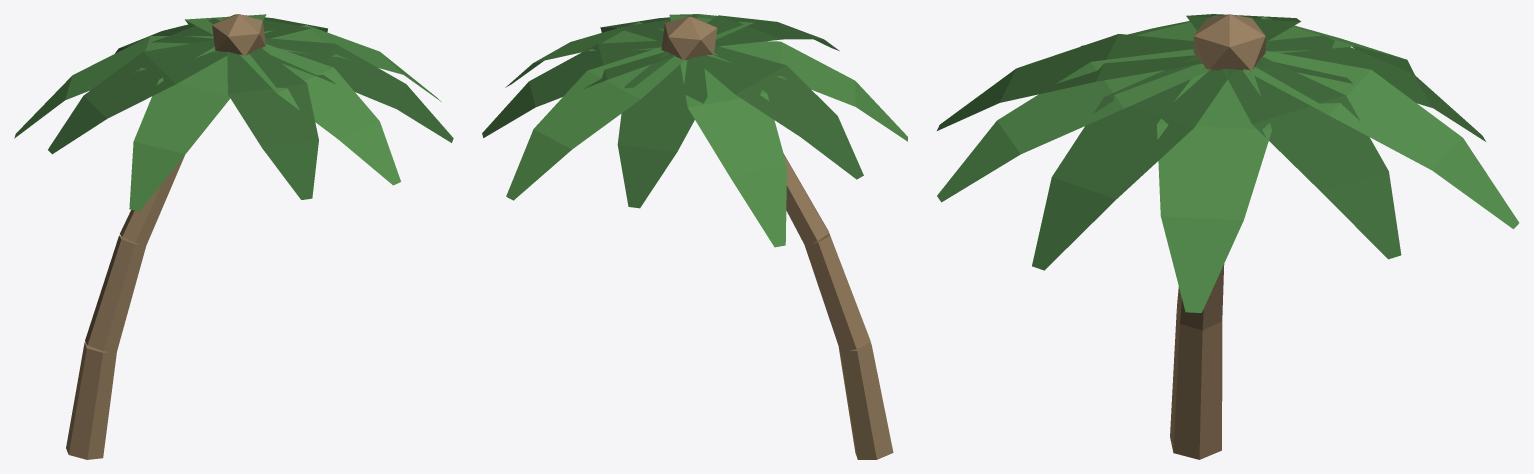
The model's file is palm-v1-winter.glb.
3 views of the same model, side by side, from view 1: azimuth 30°, elevation 25°; view 2: azimuth 150°, elevation 25°; view 3: azimuth 270°, elevation 25° (orthographic). The views are drawn at different scales.
Parts seen in each view (by area): view 1: palm_v1; view 2: palm_v1; view 3: palm_v1.
Boxes of the visible parts, box(x1,y1,x2,y2) form: palm_v1: box(14, 14, 453, 459); palm_v1: box(482, 14, 907, 459); palm_v1: box(937, 14, 1519, 459).
Size of what is drawn, in the model's own units: 5.93 by 5.98 by 5.77.
